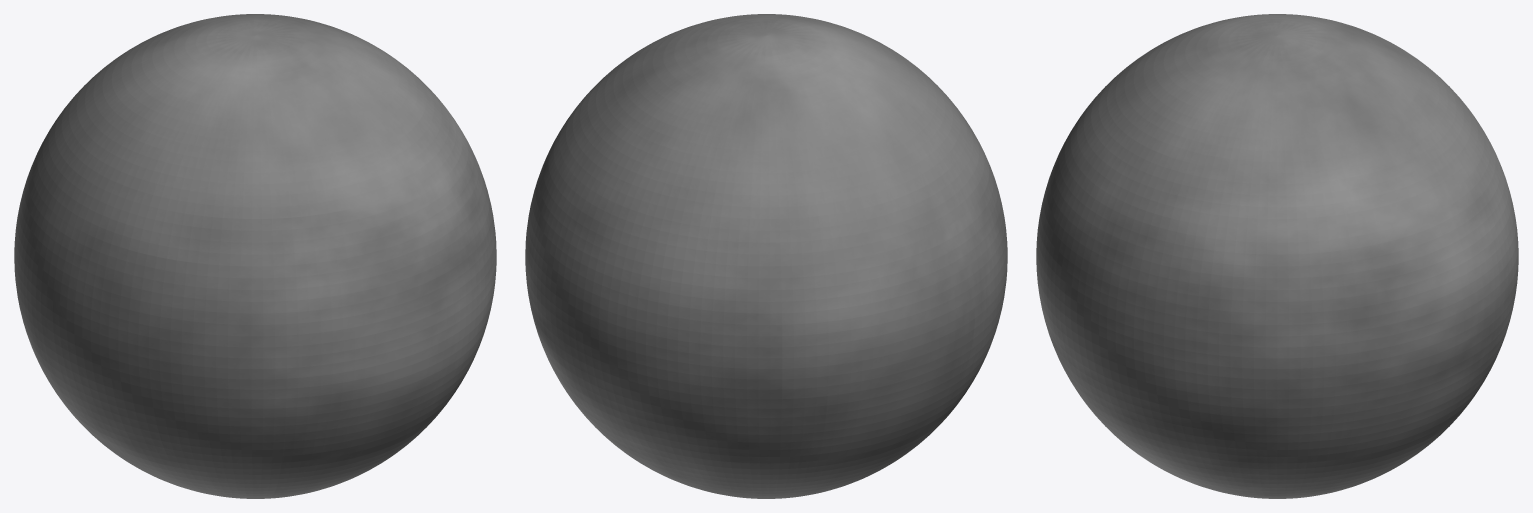
Rendered from moon.gltf.
The picture shows the model from 3 angles, left to right: view 1: azimuth 30°, elevation 25°; view 2: azimuth 150°, elevation 25°; view 3: azimuth 270°, elevation 25°; orthographic projection.
Visible parts, largest first — view 1: Sphere; view 2: Sphere; view 3: Sphere.
Boxes of the visible parts, box(x1,y1,x2,y2) form: Sphere: box(14, 14, 496, 498); Sphere: box(525, 14, 1007, 498); Sphere: box(1036, 14, 1518, 498).
Bounding box in the file's own units: 1.97 × 2 × 1.97.
Materials: 1 (1 with a texture image).
